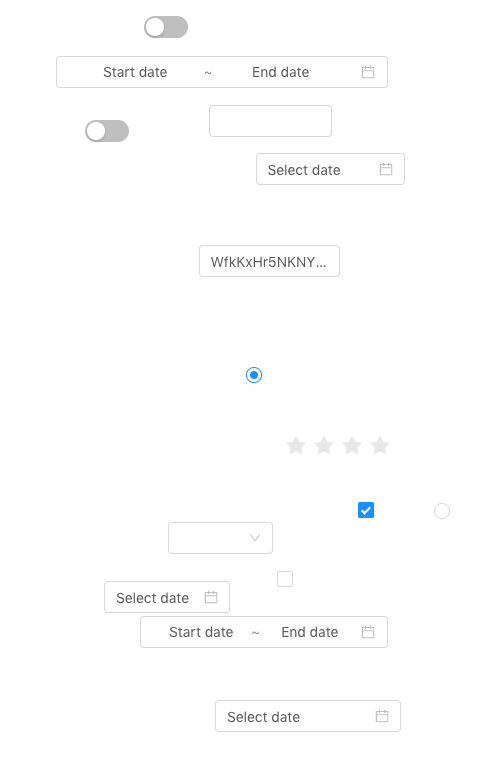Checkbox: (358, 499, 374, 520), (277, 568, 293, 589)
DatePicker: (215, 700, 401, 732), (256, 153, 405, 185), (104, 581, 230, 613)
Input: (199, 245, 340, 277), (209, 105, 332, 137)
Radio: (434, 500, 450, 520), (246, 364, 262, 384)
RangePicker: (56, 56, 399, 88), (140, 616, 388, 648)
Rate: (286, 429, 406, 461)
Select: (168, 522, 273, 554)
Switch: (85, 119, 129, 143), (144, 15, 188, 39)
